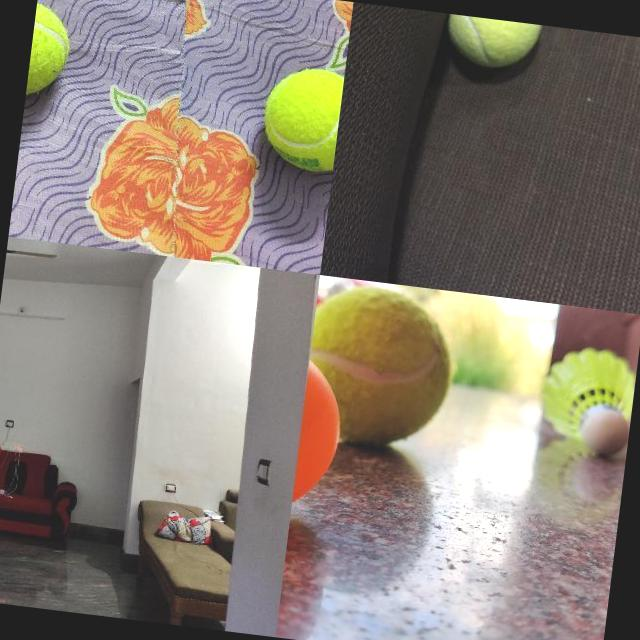Tennis Ball: (339, 286, 464, 457), (258, 61, 344, 173), (442, 14, 544, 74), (26, 0, 75, 101)
